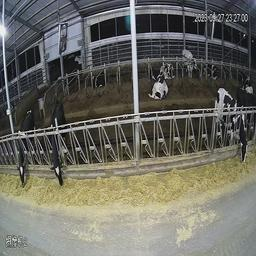cow: (211, 85, 250, 179), (10, 101, 39, 196), (46, 95, 74, 188), (146, 63, 170, 104), (181, 42, 199, 82), (160, 50, 178, 81), (85, 68, 108, 92), (204, 54, 218, 82)
